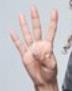right: (8, 5, 60, 84)
